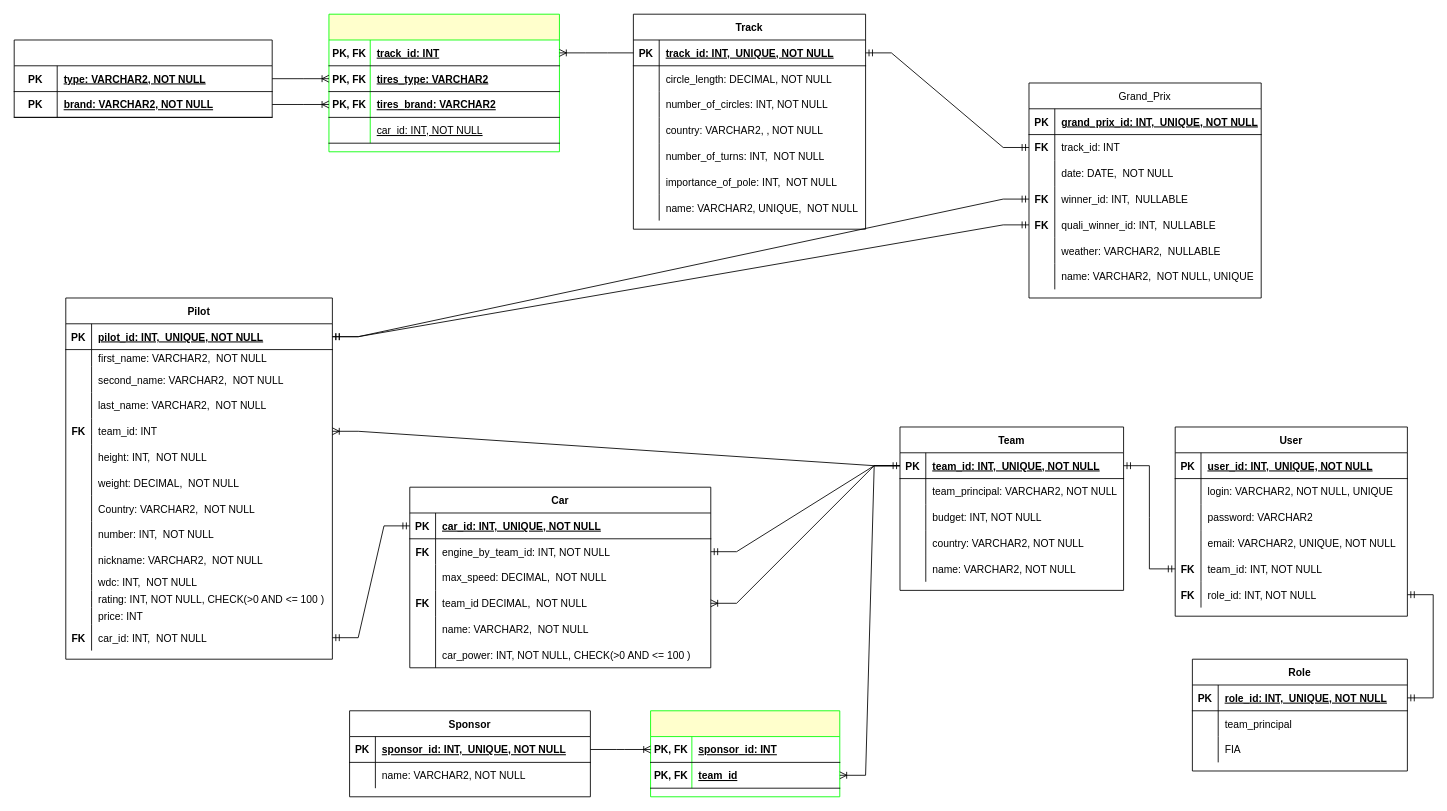
This 1447x811 diagram has some shape labels left out. The shapes that lost their labels are listed below. From the top down, each one's box as (x1, y1, x2, y2) in pixels, then its label:
(13, 39, 272, 117): Tires
(328, 13, 559, 152): Tires_on_Track
(650, 710, 840, 797): Sponsors_and_Teams
